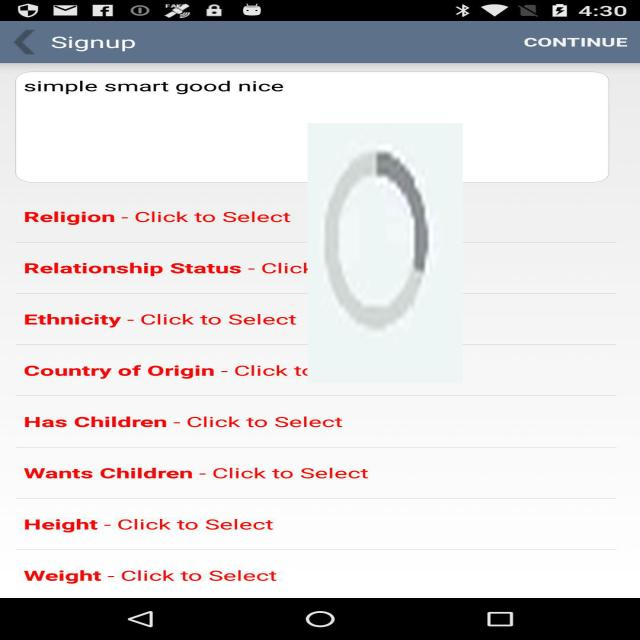misdirection: (307, 123, 463, 383)
